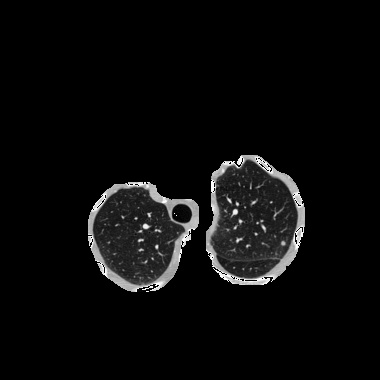PN: (279, 240, 285, 246)
